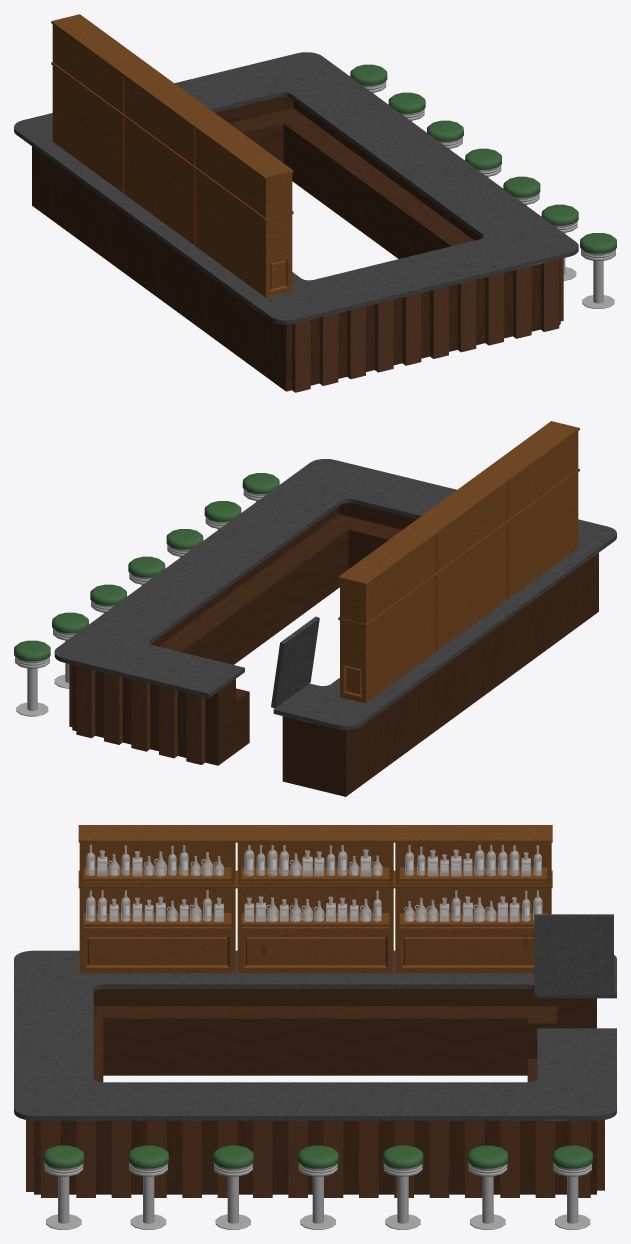
Rendered from Toda la barra.fbx.
3 renders of one model, top to bottom at view 1: azimuth 30°, elevation 25°; view 2: azimuth 150°, elevation 25°; view 3: azimuth 270°, elevation 25°, orthographic. The views are drawn at different scales.
Visible parts, largest first — view 1: Mostrador.004, Library, Cylinder.002, Cylinder.001; view 2: Mostrador.004, Library, Cylinder.002, Cylinder.001; view 3: Mostrador.004, Library, Wine.011, Cylinder.001, Cylinder.002.
Boxes of the visible parts, <box> form: Mostrador.004: <box>14,52,578,392</box>; Library: <box>51,14,293,297</box>; Cylinder.002: <box>350,64,616,253</box>; Cylinder.001: <box>362,81,615,308</box>; Mostrador.004: <box>54,459,616,796</box>; Library: <box>338,421,579,703</box>; Cylinder.002: <box>14,473,279,661</box>; Cylinder.001: <box>15,489,267,716</box>; Mostrador.004: <box>14,914,616,1197</box>; Library: <box>78,825,552,973</box>; Wine.011: <box>86,845,542,922</box>; Cylinder.001: <box>44,1163,591,1229</box>; Cylinder.002: <box>43,1145,592,1168</box>.
Size of the model in its own units: 862 by 460 by 1138.
